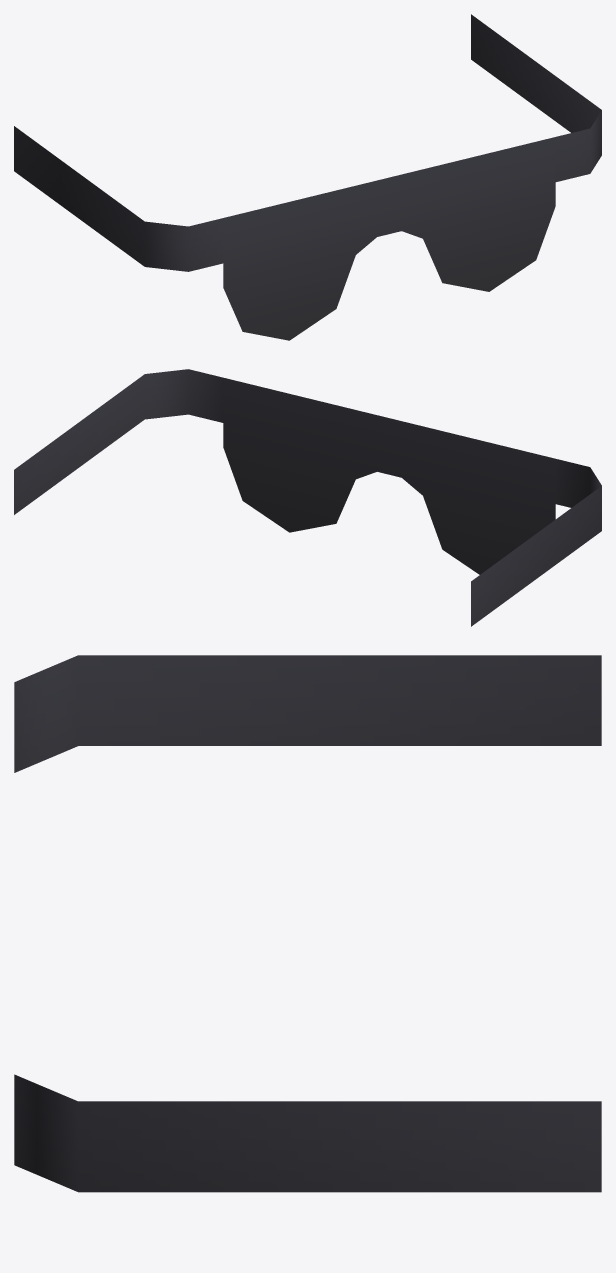
Rendered from aid-sunglasses.obj.
3 renders of one model, top to bottom at view 1: azimuth 30°, elevation 25°; view 2: azimuth 150°, elevation 25°; view 3: azimuth 270°, elevation 25°, orthographic. The views are drawn at different scales.
Parts seen in each view (by area): view 1: aid-sunglasses; view 2: aid-sunglasses; view 3: aid-sunglasses.
Part boxes in pixels (x1,y1,x2,y2): aid-sunglasses: (14,14,601,340); aid-sunglasses: (14,369,601,626); aid-sunglasses: (14,655,601,1192).
Bounding box in the file's own units: 0.33 × 0.0958 × 0.1836.
Materials: 1 (1 with a texture image).
